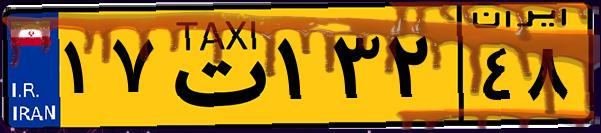1: (270, 28, 330, 110), (57, 26, 110, 100)
2: (385, 28, 445, 110)
3: (330, 28, 385, 110)
4: (475, 38, 525, 113)
7: (110, 28, 158, 98)
8: (525, 38, 570, 115)
ت: (158, 12, 270, 120)
